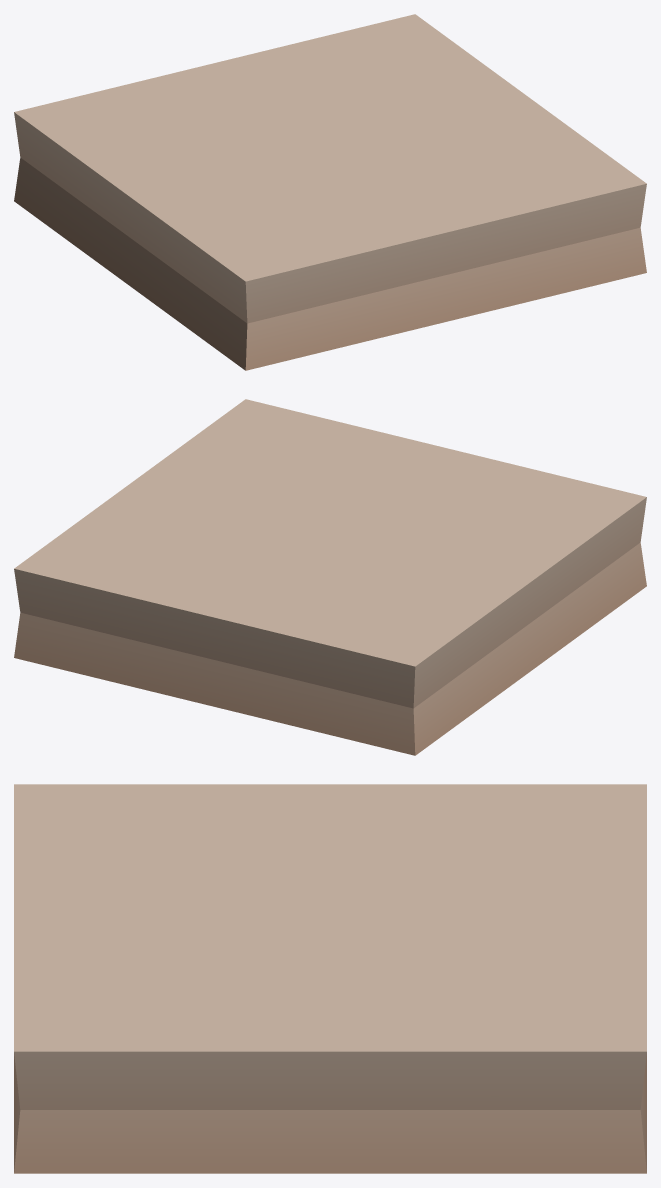
File: roof-flat-detail-c.glb
The picture shows the model from 3 angles, top to bottom: view 1: azimuth 30°, elevation 25°; view 2: azimuth 150°, elevation 25°; view 3: azimuth 270°, elevation 25°; orthographic projection. The views are drawn at different scales.
Parts seen in each view (by area): view 1: roof-flat-detail-c; view 2: roof-flat-detail-c; view 3: roof-flat-detail-c.
Boxes of the visible parts, bbox=[...] form: roof-flat-detail-c: bbox=[14, 14, 646, 370]; roof-flat-detail-c: bbox=[14, 399, 646, 755]; roof-flat-detail-c: bbox=[14, 784, 646, 1173].
Size of the model in its own units: 1 by 0.2125 by 1.
